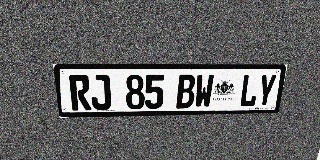5: (145, 74, 164, 109)
8: (125, 75, 145, 109)
B: (176, 74, 196, 108)
J: (90, 75, 111, 110)
L: (239, 74, 260, 107)
R: (69, 75, 92, 111)
W: (194, 74, 214, 108)
Y: (256, 74, 277, 107)
